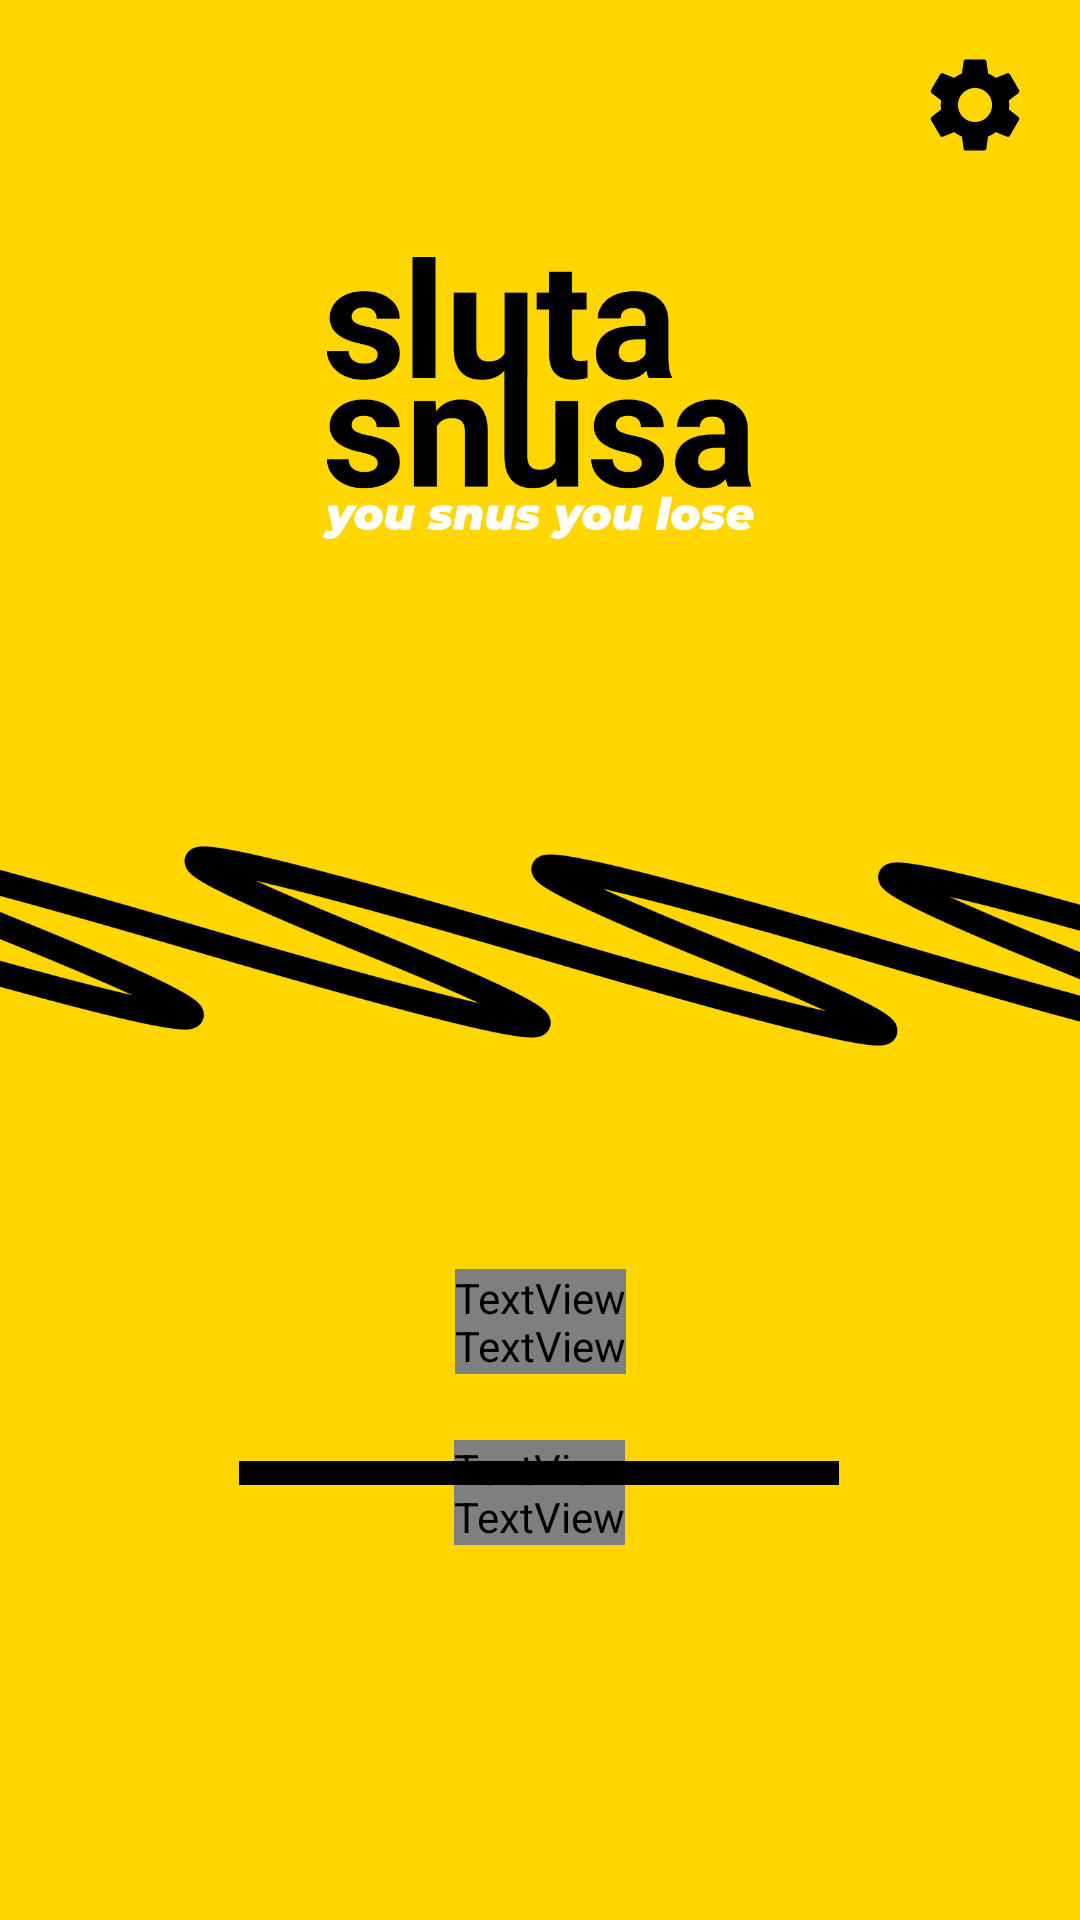

Named icons in this screenshot (1080px×1920px) and their centers, point (x, y):
settings: point (975, 105)
